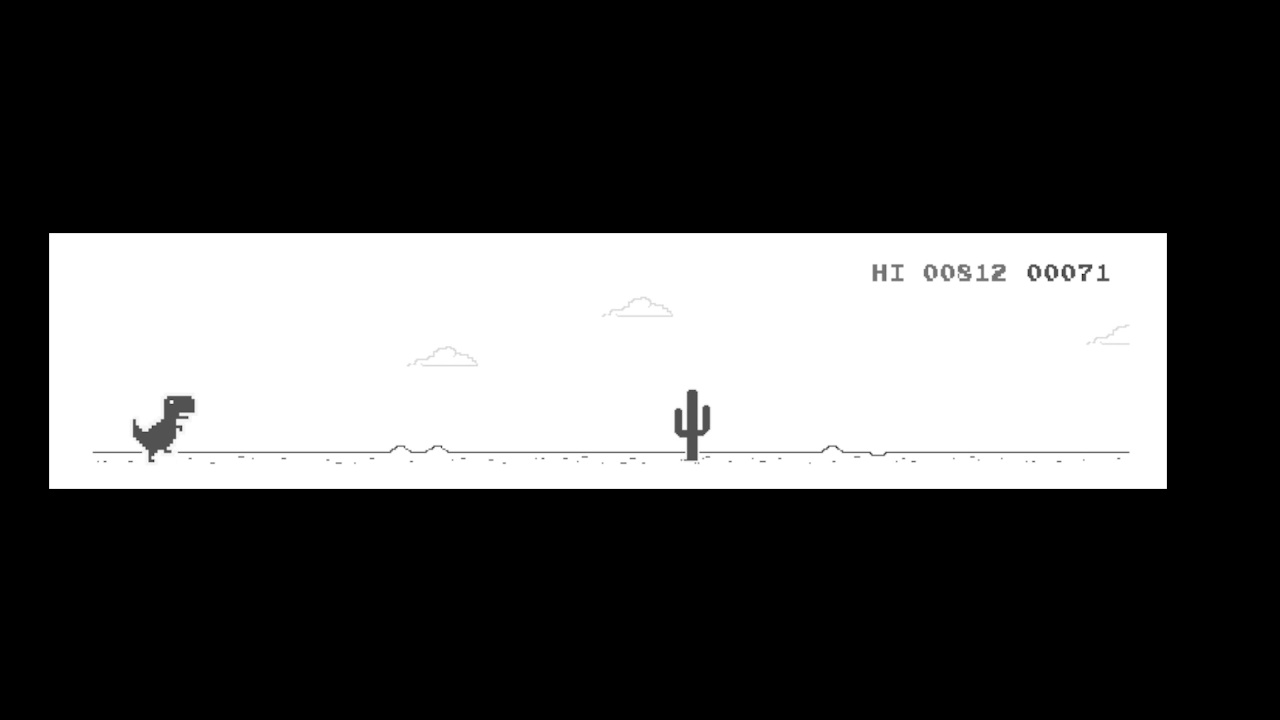bigone: (672, 389, 714, 463)
dino: (131, 390, 191, 465)
